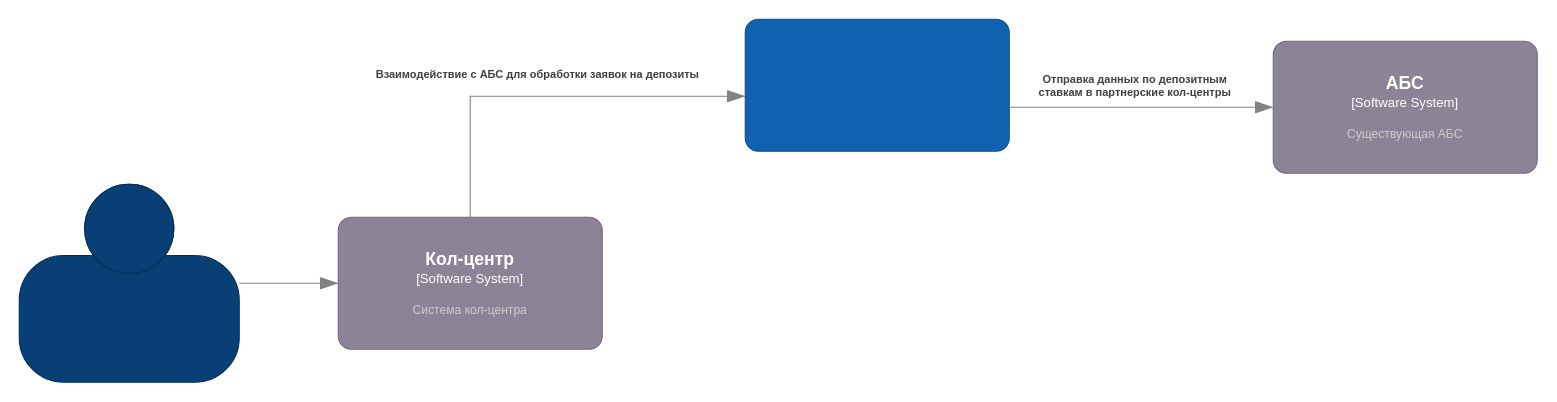
Some shapes in this 1557 by 402 pixel diagram are drawn without their labels. Here are the shapes that lost their labels. From the top down, the box of each, then its label:
(744, 18, 1009, 151): АБС [Software System] АБС
(18, 183, 239, 382): Менеджер [Менеджер] Менеджер банка
